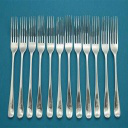fork: (5, 12, 128, 118)
